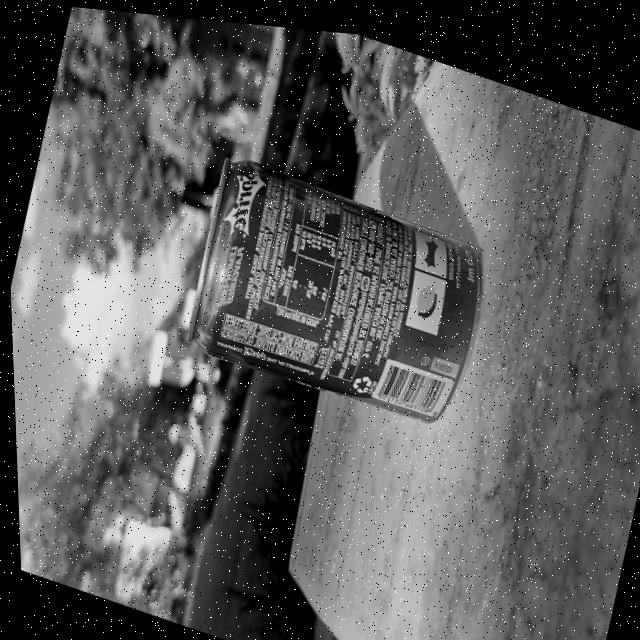Sprite: (169, 151, 491, 432)
